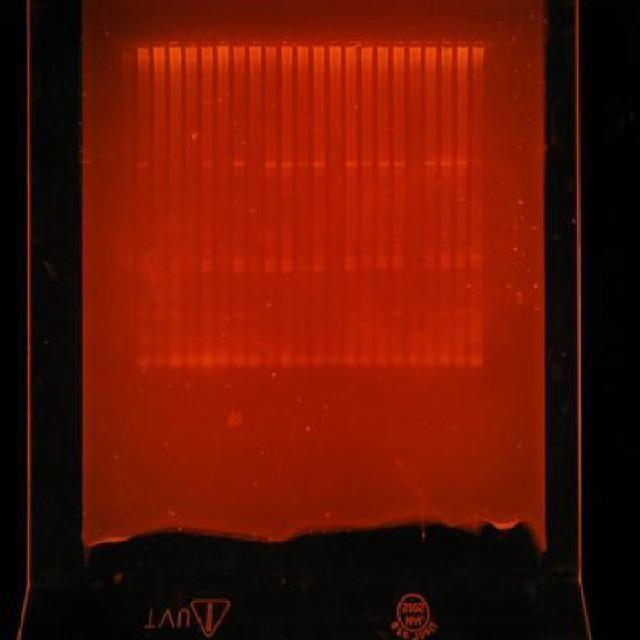B: (214, 353, 232, 369), (294, 352, 310, 368), (310, 352, 326, 368), (340, 353, 357, 367), (168, 354, 182, 370), (452, 351, 466, 367), (404, 354, 420, 368), (390, 353, 404, 369), (262, 351, 276, 367), (278, 352, 292, 368), (232, 352, 246, 368), (421, 354, 436, 368), (184, 354, 198, 369), (468, 356, 484, 369), (151, 356, 167, 369), (137, 356, 151, 370), (437, 353, 451, 367), (358, 354, 372, 368), (326, 352, 340, 366), (248, 353, 262, 367), (200, 354, 214, 368), (375, 352, 388, 366), (390, 308, 408, 318), (136, 264, 152, 274), (153, 309, 167, 320), (168, 309, 182, 320), (391, 262, 406, 272), (421, 261, 437, 270), (358, 254, 374, 263), (344, 254, 358, 264), (264, 256, 278, 266), (453, 308, 467, 318), (374, 263, 390, 271), (358, 262, 374, 270), (342, 264, 358, 272), (214, 257, 230, 265), (136, 256, 152, 264), (438, 253, 452, 262), (376, 253, 390, 262), (232, 310, 246, 319), (438, 262, 453, 270), (280, 160, 294, 168), (312, 160, 326, 168), (469, 260, 483, 268), (454, 262, 468, 270), (454, 254, 468, 262), (422, 253, 436, 261), (312, 264, 326, 272), (312, 256, 326, 264), (296, 264, 310, 272), (232, 258, 246, 266), (232, 265, 246, 273), (248, 257, 262, 265), (248, 264, 262, 272), (264, 265, 278, 273), (200, 258, 214, 266), (200, 265, 214, 273), (216, 265, 230, 273), (345, 160, 358, 168), (361, 159, 374, 167), (296, 257, 309, 265), (168, 160, 181, 168), (392, 255, 406, 262), (232, 225, 246, 232), (280, 258, 292, 266), (136, 162, 150, 168), (232, 160, 246, 166), (264, 162, 278, 168), (296, 161, 310, 167), (376, 161, 390, 167), (392, 161, 406, 167), (424, 160, 438, 166), (440, 160, 454, 166), (469, 254, 483, 260), (312, 230, 326, 236), (232, 233, 246, 239), (200, 161, 213, 167), (471, 158, 484, 164), (439, 228, 452, 234), (280, 266, 292, 272), (455, 160, 468, 165)
L: (117, 35, 490, 54)
Pc: (231, 37, 246, 51), (440, 37, 454, 51), (424, 38, 438, 52), (408, 38, 422, 52), (392, 38, 406, 52), (376, 37, 390, 51), (312, 38, 326, 52), (471, 39, 486, 52), (456, 39, 470, 52), (360, 38, 374, 51), (328, 38, 342, 51), (248, 38, 262, 51), (279, 39, 295, 50), (263, 39, 279, 50), (184, 40, 198, 52), (200, 39, 214, 50), (216, 39, 230, 50), (344, 39, 358, 50), (136, 39, 149, 50), (120, 41, 134, 50), (152, 40, 166, 49), (168, 40, 182, 49), (296, 40, 310, 49)
